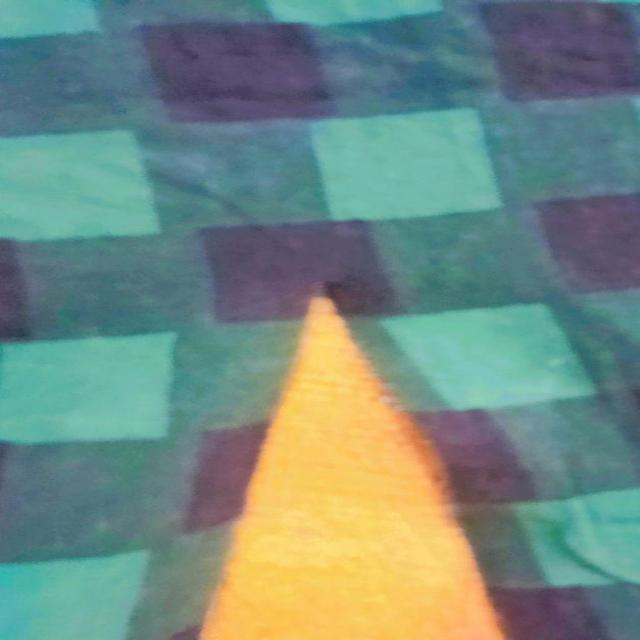cut: (198, 268, 500, 640)
